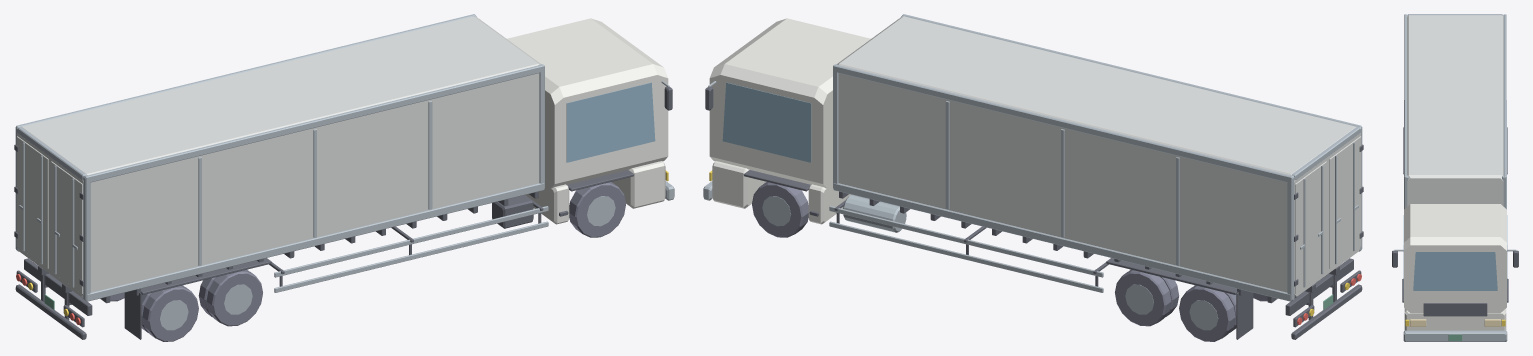
Rendered from HK_Truck_Large.glb.
3 views of the same model, side by side, from view 1: azimuth 30°, elevation 25°; view 2: azimuth 150°, elevation 25°; view 3: azimuth 270°, elevation 25° (orthographic). The views are drawn at different scales.
Visible parts, largest first — view 1: HK_Truck_Large_BodyMain; view 2: HK_Truck_Large_BodyMain; view 3: HK_Truck_Large_BodyMain.
Boxes of the visible parts, <box> form: HK_Truck_Large_BodyMain: <box>14,14,674,341</box>; HK_Truck_Large_BodyMain: <box>703,14,1363,341</box>; HK_Truck_Large_BodyMain: <box>1392,14,1518,341</box>.
Bounding box in the file's own units: 12.01 × 3.62 × 3.07.
